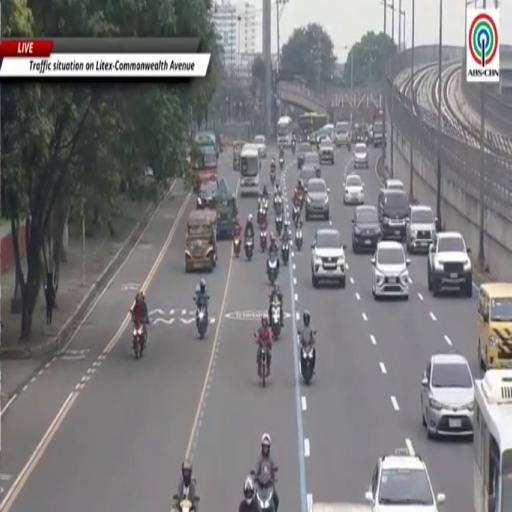bus: (474, 370, 511, 511), (191, 133, 218, 190), (239, 144, 260, 197), (298, 112, 329, 136), (277, 117, 293, 147)
car: (365, 450, 445, 511), (421, 354, 474, 438), (427, 232, 473, 297), (371, 240, 410, 300), (312, 229, 345, 287), (378, 189, 409, 242), (406, 205, 436, 252), (352, 205, 380, 252), (305, 179, 329, 220), (344, 174, 364, 204), (197, 182, 218, 209), (299, 165, 317, 190), (304, 152, 320, 178), (319, 138, 334, 165), (335, 121, 350, 147), (297, 142, 311, 169), (354, 142, 368, 168), (254, 135, 266, 157), (318, 124, 334, 140), (385, 179, 405, 191)
jeepney: (185, 210, 217, 273), (191, 133, 218, 193), (216, 179, 237, 239), (233, 140, 245, 171)
motorcycle: (252, 462, 275, 511), (298, 333, 314, 385), (258, 342, 269, 387), (301, 345, 313, 385), (133, 320, 145, 359), (271, 297, 281, 340), (196, 304, 208, 339), (173, 495, 199, 511), (267, 254, 279, 286), (256, 203, 266, 226), (292, 205, 300, 228), (294, 191, 304, 209), (245, 238, 253, 260), (282, 240, 289, 265), (273, 194, 282, 213), (233, 237, 241, 257), (295, 229, 302, 250), (276, 214, 282, 236), (260, 231, 266, 252), (262, 197, 269, 214), (270, 169, 275, 185), (279, 157, 284, 170), (292, 141, 296, 155), (348, 142, 351, 151)
truck: (372, 110, 385, 147)
